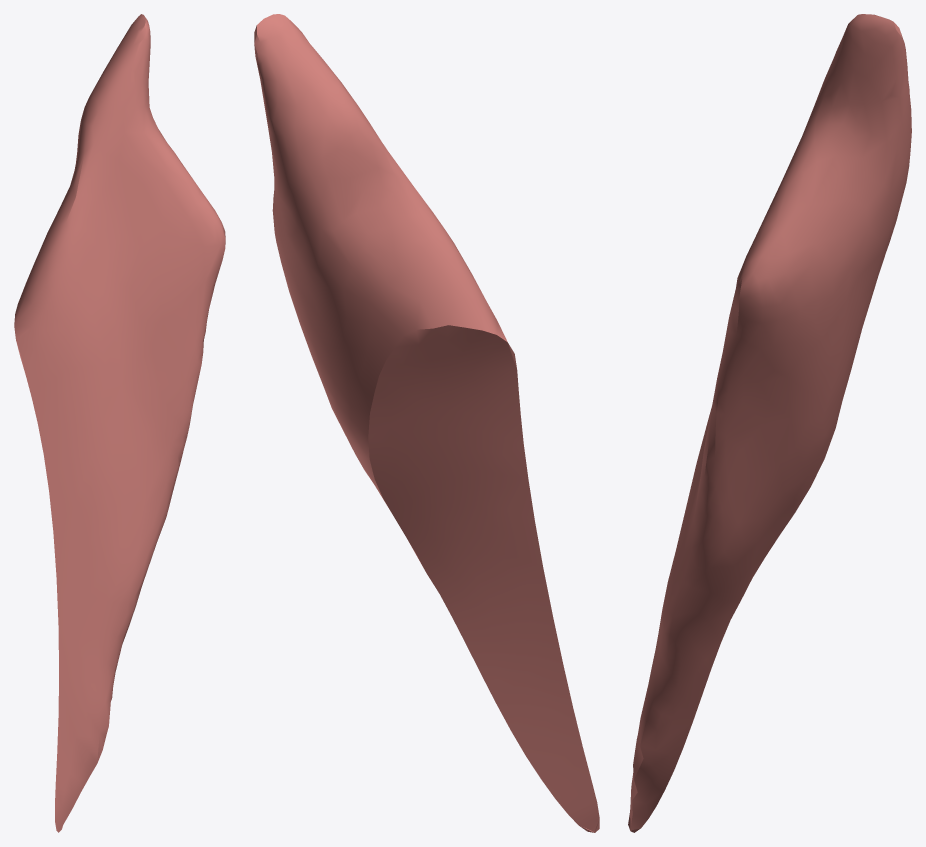
File: fma40810-n_mm1858.glb
The picture shows the model from 3 angles, left to right: view 1: azimuth 30°, elevation 25°; view 2: azimuth 150°, elevation 25°; view 3: azimuth 270°, elevation 25°; orthographic projection. The views are drawn at different scales.
Visible parts, largest first — view 1: FMA40810-N_MM1858; view 2: FMA40810-N_MM1858; view 3: FMA40810-N_MM1858.
Boxes of the visible parts, box(x1,y1,x2,y2) form: FMA40810-N_MM1858: box(14, 14, 225, 832); FMA40810-N_MM1858: box(254, 14, 599, 832); FMA40810-N_MM1858: box(628, 14, 911, 832).
Size of the model in its own units: 0.0158 by 0.0492 by 0.0136.
